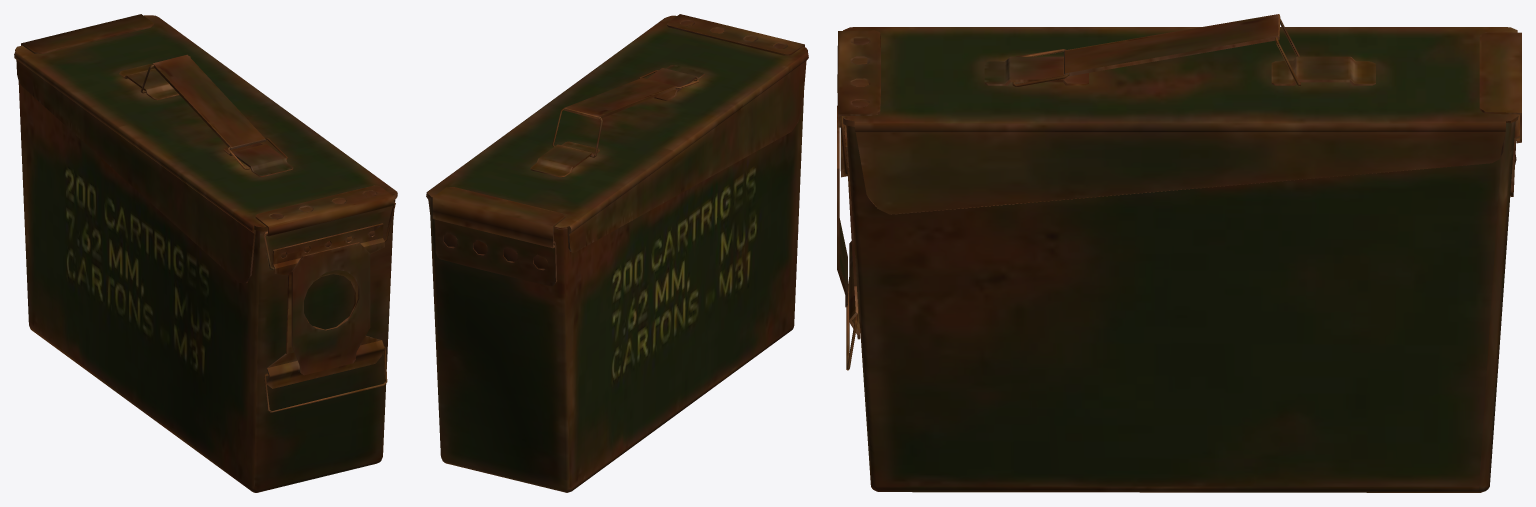
File: ph_ammobox.glb
3 views of the same model, side by side, from view 1: azimuth 30°, elevation 25°; view 2: azimuth 150°, elevation 25°; view 3: azimuth 270°, elevation 25° (orthographic). The views are drawn at different scales.
Visible parts, largest first — view 1: ammo_box_handle_ring_b; view 2: ammo_box_handle_ring_b; view 3: ammo_box_handle_ring_b.
Part boxes in pixels (x1,y1,x2,y2): ammo_box_handle_ring_b: (14,14,397,492); ammo_box_handle_ring_b: (426,14,808,492); ammo_box_handle_ring_b: (837,14,1521,492).
Size of the model in its own units: 0.0864 by 0.1773 by 0.2576.
1 material, 1 textured.
